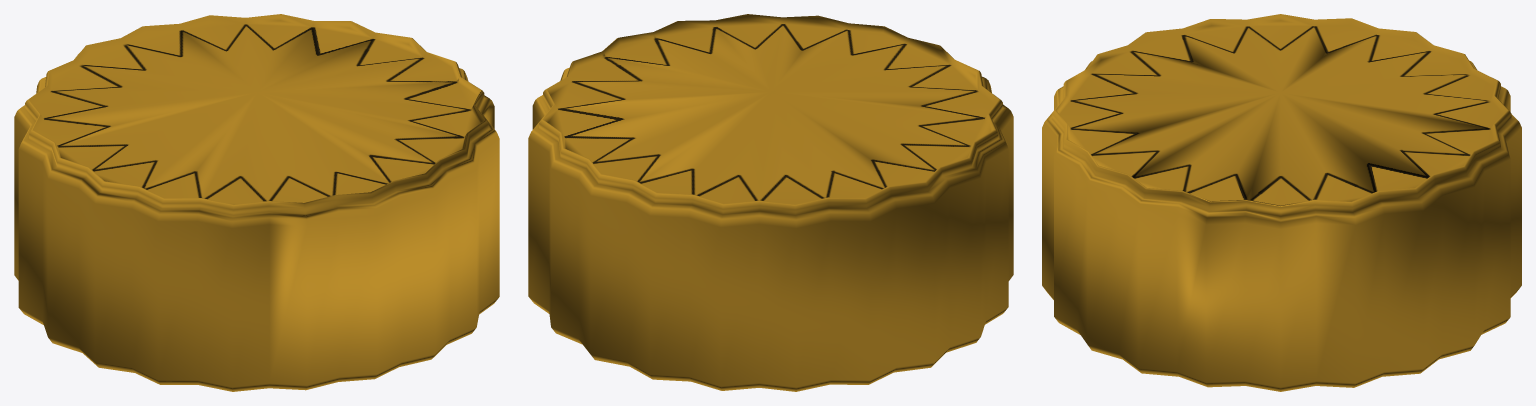
Rendered from MooncakeV3.fbx.
The picture shows the model from 3 angles, left to right: view 1: azimuth 30°, elevation 25°; view 2: azimuth 150°, elevation 25°; view 3: azimuth 270°, elevation 25°; orthographic projection.
Visible parts, largest first — view 1: MooncakeV2; view 2: MooncakeV2; view 3: MooncakeV2.
Boxes of the visible parts, x1,y1,x2,y2 form: MooncakeV2: (14, 14, 499, 391); MooncakeV2: (528, 14, 1013, 391); MooncakeV2: (1042, 14, 1521, 391).
Bounding box in the file's own units: 65.17 × 29.87 × 64.98.
